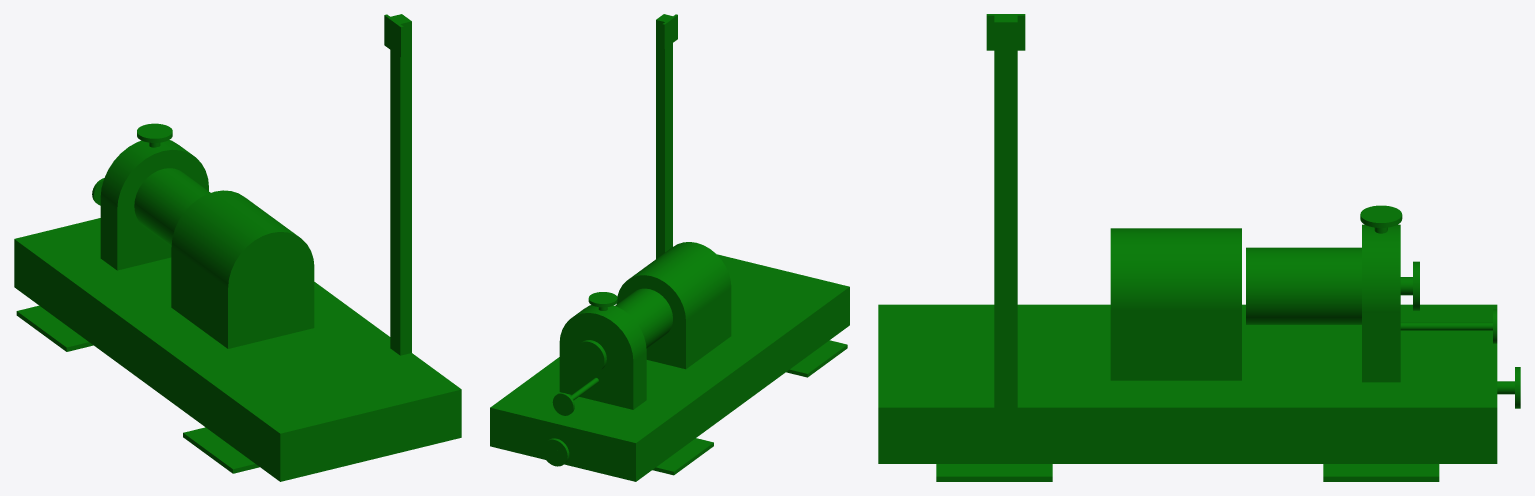
Rendered from Image-1710907682264-2280643501040_53-PA50B.fbx.
3 renders of one model, left to right at view 1: azimuth 30°, elevation 25°; view 2: azimuth 150°, elevation 25°; view 3: azimuth 270°, elevation 25°, orthographic. The views are drawn at different scales.
Visible parts, largest first — view 1: BOX 1 of SUBEQUIPMENT /53-PA50/B/PRIM, CYLINDER 3 of SUBEQUIPMENT /53-PA50/B/PRIM, BOX 6 of SUBEQUIPMENT /53-PA50/B/PRIM, BOX 9 of SUBEQUIPMENT /53-PA50/B/PRIM, CYLINDER 1 of SUBEQUIPMENT /53-PA50/B/PRIM, CYLINDER 2 of SUBEQUIPMENT /53-PA50/B/PRIM, BOX 8 of SUBEQUIPMENT /53-PA50/B/PRIM, BOX 3 of SUBEQUIPMENT /53-PA50/B/PRIM, BOX 4 of SUBEQUIPMENT /53-PA50/B/PRIM, BOX 7 of SUBEQUIPMENT /53-PA50/B/PRIM, /53-PA50/B/N2; view 2: BOX 1 of SUBEQUIPMENT /53-PA50/B/PRIM, CYLINDER 3 of SUBEQUIPMENT /53-PA50/B/PRIM, CYLINDER 1 of SUBEQUIPMENT /53-PA50/B/PRIM, BOX 6 of SUBEQUIPMENT /53-PA50/B/PRIM, BOX 9 of SUBEQUIPMENT /53-PA50/B/PRIM, BOX 8 of SUBEQUIPMENT /53-PA50/B/PRIM, CYLINDER 2 of SUBEQUIPMENT /53-PA50/B/PRIM, BOX 4 of SUBEQUIPMENT /53-PA50/B/PRIM, BOX 3 of SUBEQUIPMENT /53-PA50/B/PRIM, /53-PA50/B/N1, /53-PA50/B/N4, /53-PA50/B/N3 (+2 smaller); view 3: BOX 1 of SUBEQUIPMENT /53-PA50/B/PRIM, CYLINDER 3 of SUBEQUIPMENT /53-PA50/B/PRIM, BOX 6 of SUBEQUIPMENT /53-PA50/B/PRIM, BOX 9 of SUBEQUIPMENT /53-PA50/B/PRIM, CYLINDER 2 of SUBEQUIPMENT /53-PA50/B/PRIM, CYLINDER 1 of SUBEQUIPMENT /53-PA50/B/PRIM, BOX 8 of SUBEQUIPMENT /53-PA50/B/PRIM, BOX 2 of SUBEQUIPMENT /53-PA50/B/PRIM, BOX 5 of SUBEQUIPMENT /53-PA50/B/PRIM, /53-PA50/B/N3, /53-PA50/B/N2, BOX 7 of SUBEQUIPMENT /53-PA50/B/PRIM.
Part boxes in pixels (x1,y1,x2,y2): BOX 1 of SUBEQUIPMENT /53-PA50/B/PRIM: (14,218,461,481); CYLINDER 3 of SUBEQUIPMENT /53-PA50/B/PRIM: (171,190,314,323); BOX 6 of SUBEQUIPMENT /53-PA50/B/PRIM: (390,14,411,355); BOX 9 of SUBEQUIPMENT /53-PA50/B/PRIM: (171,247,314,348); CYLINDER 1 of SUBEQUIPMENT /53-PA50/B/PRIM: (100,140,208,248); CYLINDER 2 of SUBEQUIPMENT /53-PA50/B/PRIM: (134,168,210,246); BOX 8 of SUBEQUIPMENT /53-PA50/B/PRIM: (100,188,208,270); BOX 3 of SUBEQUIPMENT /53-PA50/B/PRIM: (16,305,93,351); BOX 4 of SUBEQUIPMENT /53-PA50/B/PRIM: (183,427,259,473); BOX 7 of SUBEQUIPMENT /53-PA50/B/PRIM: (384,14,403,57); /53-PA50/B/N2: (137,123,172,147); BOX 1 of SUBEQUIPMENT /53-PA50/B/PRIM: (490,254,849,481); CYLINDER 3 of SUBEQUIPMENT /53-PA50/B/PRIM: (616,242,731,349); CYLINDER 1 of SUBEQUIPMENT /53-PA50/B/PRIM: (559,305,646,391); BOX 6 of SUBEQUIPMENT /53-PA50/B/PRIM: (656,14,672,258); BOX 9 of SUBEQUIPMENT /53-PA50/B/PRIM: (616,288,731,369); BOX 8 of SUBEQUIPMENT /53-PA50/B/PRIM: (559,344,646,409); CYLINDER 2 of SUBEQUIPMENT /53-PA50/B/PRIM: (615,288,672,348); BOX 4 of SUBEQUIPMENT /53-PA50/B/PRIM: (786,340,847,377); BOX 3 of SUBEQUIPMENT /53-PA50/B/PRIM: (652,438,713,475); /53-PA50/B/N1: (575,340,606,373); /53-PA50/B/N4: (542,438,569,466); /53-PA50/B/N3: (552,378,598,415); BOX 1 of SUBEQUIPMENT /53-PA50/B/PRIM: (878,304,1497,463); CYLINDER 3 of SUBEQUIPMENT /53-PA50/B/PRIM: (1110,228,1241,310); BOX 6 of SUBEQUIPMENT /53-PA50/B/PRIM: (994,15,1017,407); BOX 9 of SUBEQUIPMENT /53-PA50/B/PRIM: (1110,310,1241,380); CYLINDER 2 of SUBEQUIPMENT /53-PA50/B/PRIM: (1246,247,1361,324); CYLINDER 1 of SUBEQUIPMENT /53-PA50/B/PRIM: (1362,224,1400,312); BOX 8 of SUBEQUIPMENT /53-PA50/B/PRIM: (1362,312,1400,382); BOX 2 of SUBEQUIPMENT /53-PA50/B/PRIM: (1323,464,1439,481); BOX 5 of SUBEQUIPMENT /53-PA50/B/PRIM: (936,464,1052,481); /53-PA50/B/N3: (1400,309,1497,343); /53-PA50/B/N2: (1360,205,1402,233); BOX 7 of SUBEQUIPMENT /53-PA50/B/PRIM: (986,14,1025,50).
Size of the model in its own units: 0.785 by 1.66 by 1.28.
